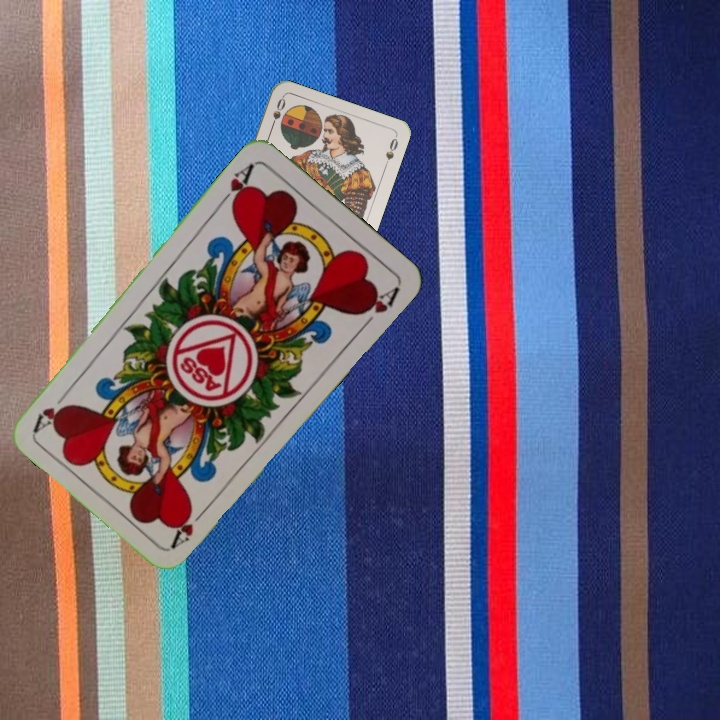HA: (215, 159, 257, 211), (167, 502, 212, 550)
SO: (266, 94, 288, 133)
